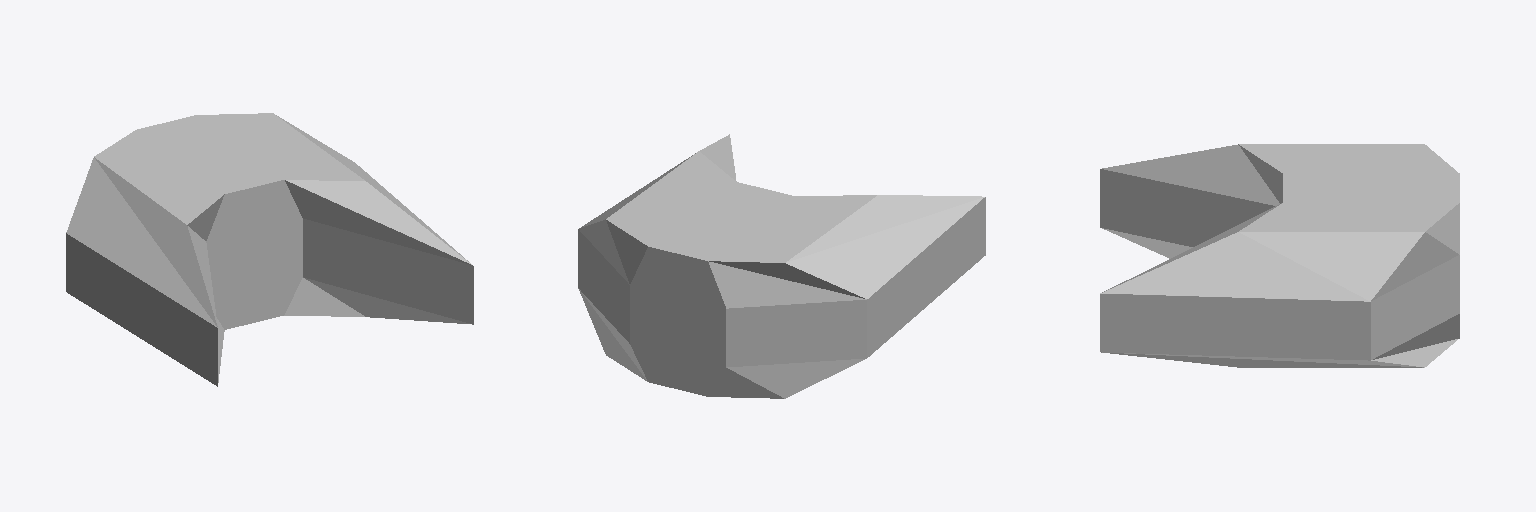
The model's file is WhalePart5.obj.
The picture shows the model from 3 angles: view 1: azimuth 30°, elevation 25°; view 2: azimuth 150°, elevation 25°; view 3: azimuth 270°, elevation 25°; orthographic projection.
Parts seen in each view (by area): view 1: Part5; view 2: Part5; view 3: Part5.
Boxes of the visible parts, x1,y1,x2,y2 form: Part5: [66, 113, 473, 386]; Part5: [578, 134, 985, 398]; Part5: [1100, 144, 1459, 367].
Bounding box in the file's own units: 2.2 × 0.9853 × 2.36.